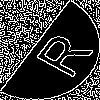R: (25, 25, 94, 81)
